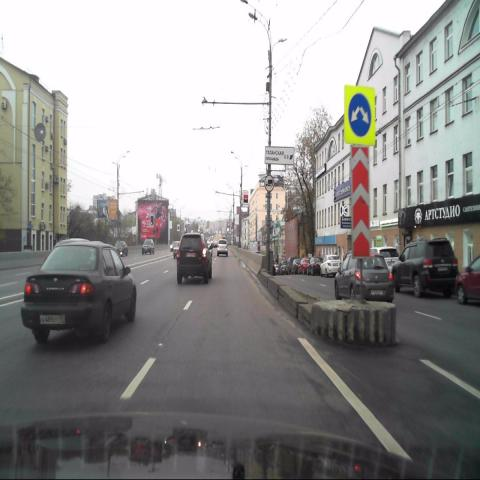3_4_1: (265, 176, 274, 191)
4_2_3: (344, 88, 375, 145)
